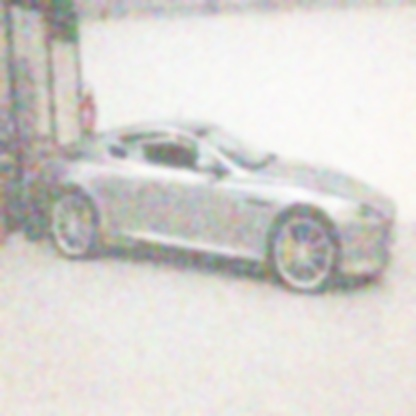Vehicle: (27, 115, 400, 295)
